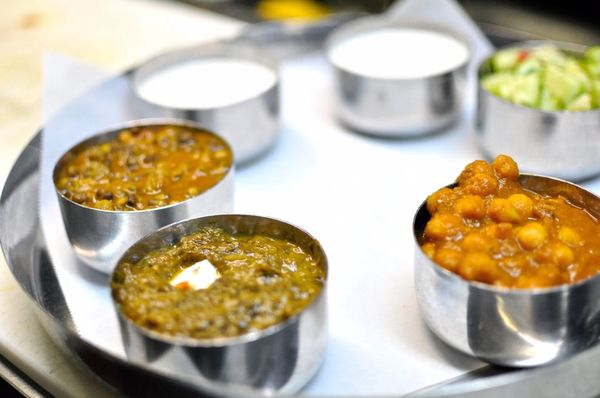pizza: (323, 1, 495, 139)
sushi: (412, 156, 600, 366), (108, 212, 332, 387), (52, 117, 235, 275), (475, 39, 600, 181)
